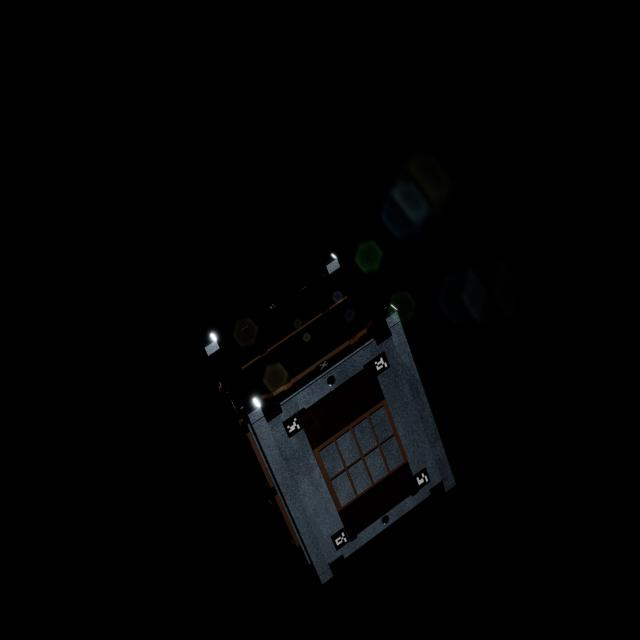medium_debris: (204, 253, 474, 595)
